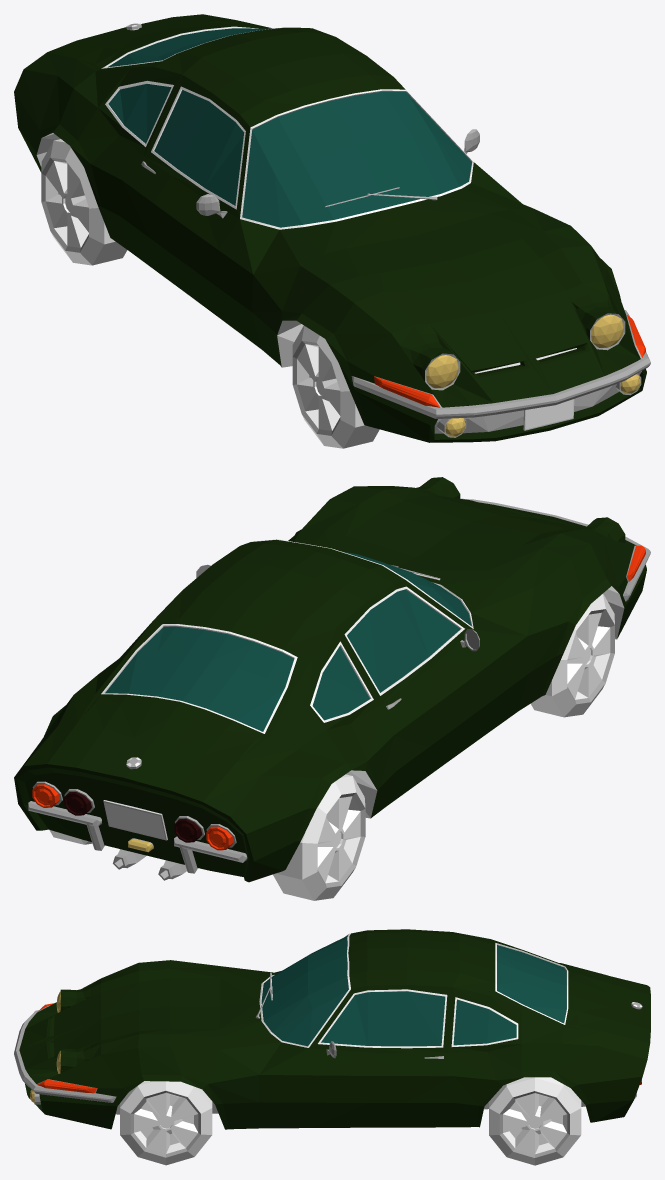
Rendered from MuscleCar_03.FBX.
3 renders of one model, top to bottom at view 1: azimuth 30°, elevation 25°; view 2: azimuth 150°, elevation 25°; view 3: azimuth 270°, elevation 25°, orthographic. The views are drawn at different scales.
Visible parts, largest first — view 1: MuscleCar_03, wheel_b_r, wheel_f_r, bumper_f, lights, headLights, licensePlate_f, indicatorLights_r; view 2: MuscleCar_03, wheel_b_r, wheel_f_r, bumper_b, lights, licensePlate_b, tailLights, indicatorLights_r, bumper_f; view 3: MuscleCar_03, wheel_b_l, wheel_f_l, lights, bumper_f, indicatorLights_l.
Part boxes in pixels (x1,y1,x2,y2): MuscleCar_03: (14, 14, 646, 442); wheel_b_r: (41, 139, 127, 265); wheel_f_r: (292, 325, 379, 448); bumper_f: (351, 310, 650, 418); lights: (377, 294, 641, 437); headLights: (426, 314, 640, 436); licensePlate_f: (523, 399, 574, 430); indicatorLights_r: (374, 376, 440, 407); MuscleCar_03: (14, 486, 646, 882); wheel_b_r: (273, 774, 365, 900); wheel_f_r: (530, 594, 614, 717); bumper_b: (28, 801, 247, 873); lights: (32, 477, 635, 848); licensePlate_b: (103, 800, 167, 840); tailLights: (64, 792, 202, 842); indicatorLights_r: (206, 545, 645, 850); bumper_f: (460, 498, 650, 601); MuscleCar_03: (19, 929, 650, 1129); wheel_b_l: (489, 1077, 581, 1165); wheel_f_l: (120, 1081, 212, 1165); lights: (34, 984, 97, 1104); bumper_f: (14, 1010, 116, 1102); indicatorLights_l: (37, 1079, 641, 1093).
Bounding box in the file's own units: 21.17 × 15.98 × 53.88.
